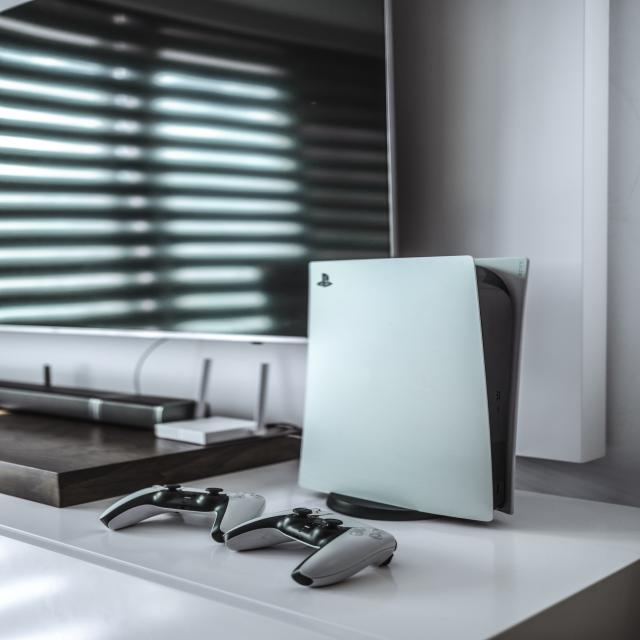Plastic: (297, 256, 530, 526), (210, 508, 399, 593), (102, 487, 291, 552)
